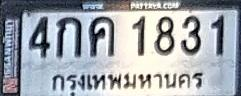1: (132, 16, 146, 56), (211, 14, 224, 56)
3: (180, 15, 200, 55)
4: (29, 17, 50, 58)
8: (154, 15, 174, 55)
A01: (56, 16, 81, 57)
A04: (90, 16, 114, 56)
BKK: (47, 68, 207, 96)
